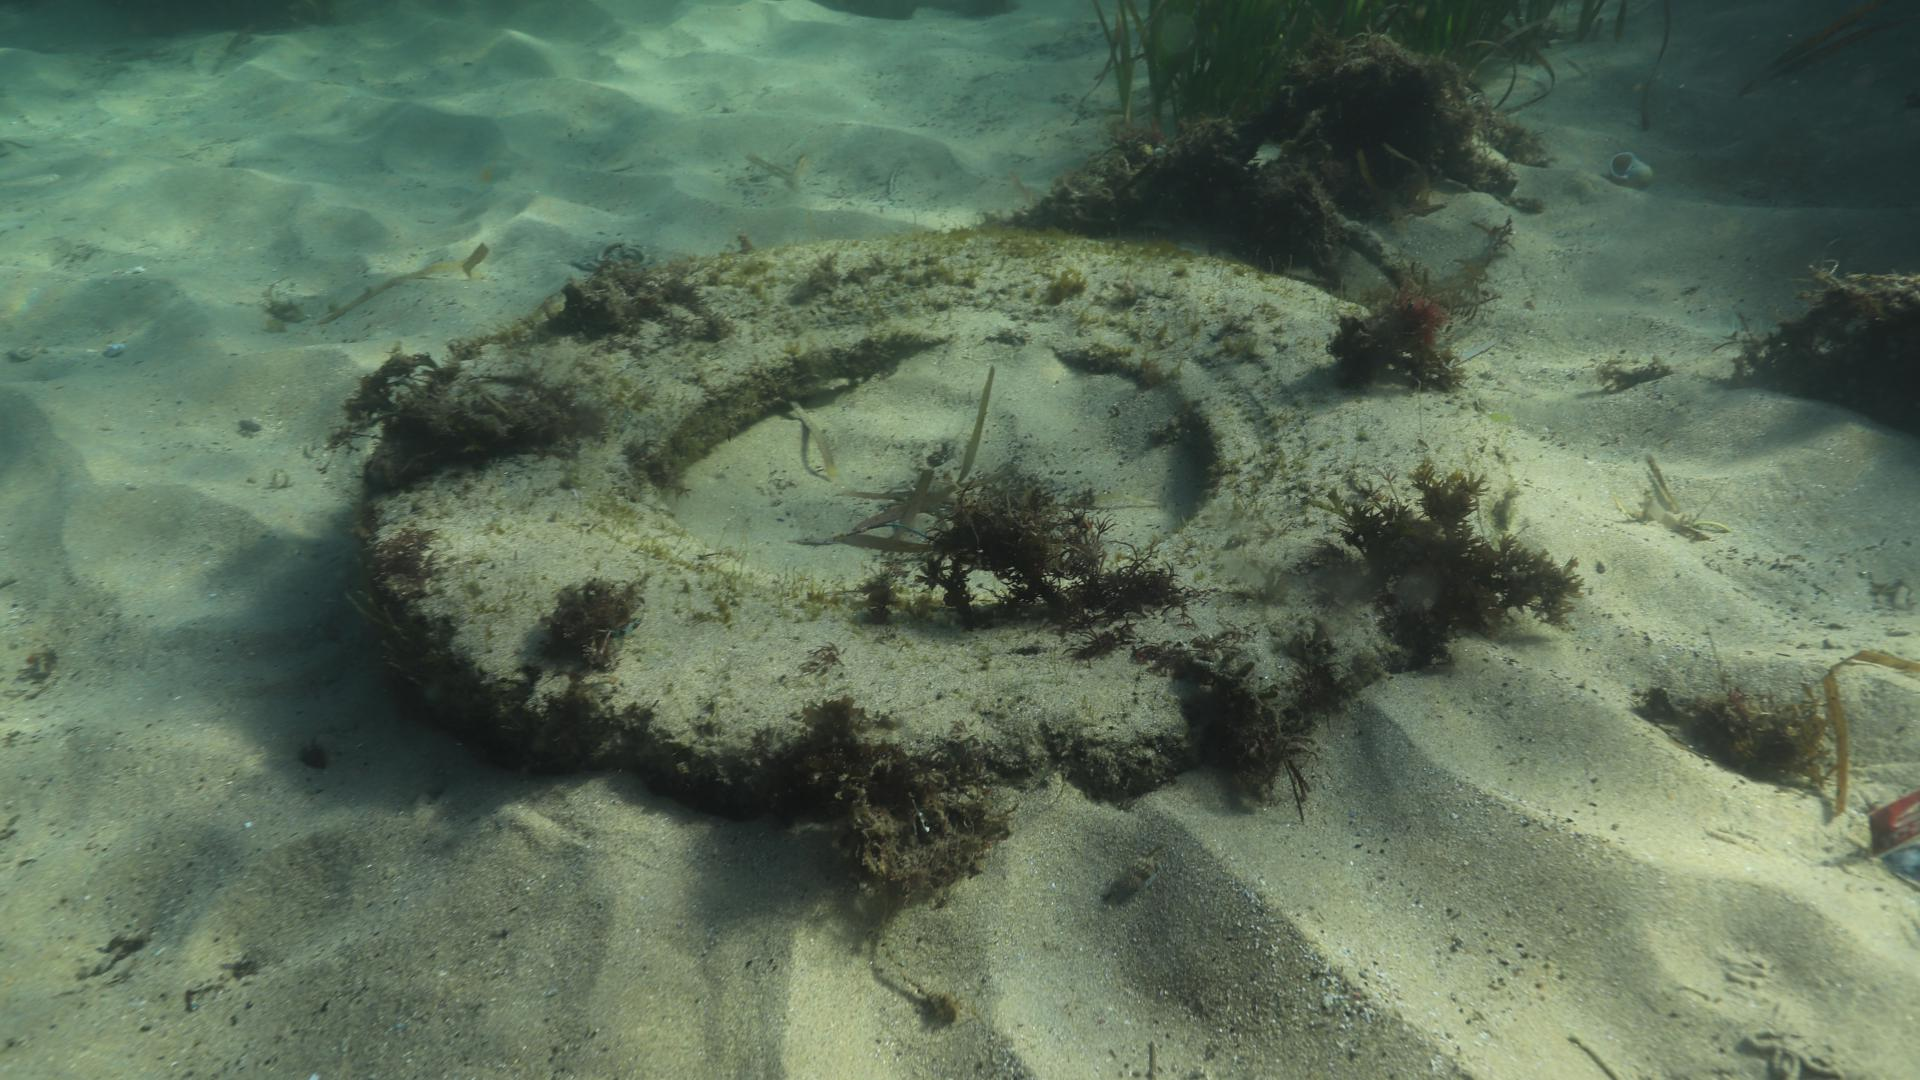tire: (368, 229, 1452, 819)
